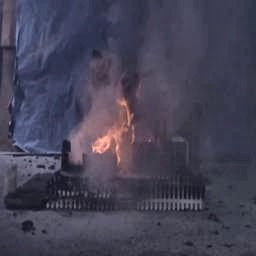fire: (89, 90, 136, 159)
